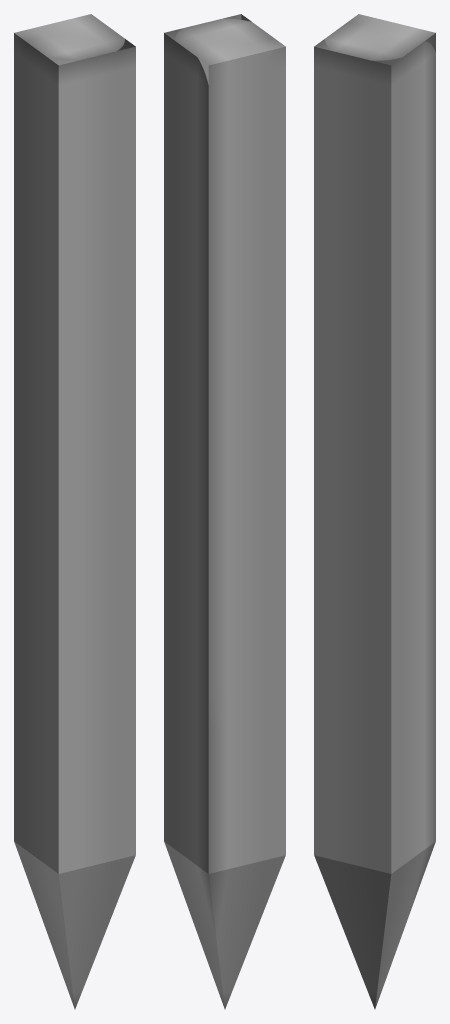
Rendered from spike2.obj.
The picture shows the model from 3 angles, left to right: view 1: azimuth 30°, elevation 25°; view 2: azimuth 210°, elevation 25°; view 3: azimuth 330°, elevation 25°; orthographic projection.
Visible parts, largest first — view 1: Spike2; view 2: Spike2; view 3: Spike2.
Part boxes in pixels (left/top/right/bottom): Spike2: left=14, top=14, right=135, bottom=1009; Spike2: left=164, top=14, right=285, bottom=1009; Spike2: left=314, top=14, right=435, bottom=1009.
Size of the model in its own units: 0.125 by 1.5 by 0.125.
